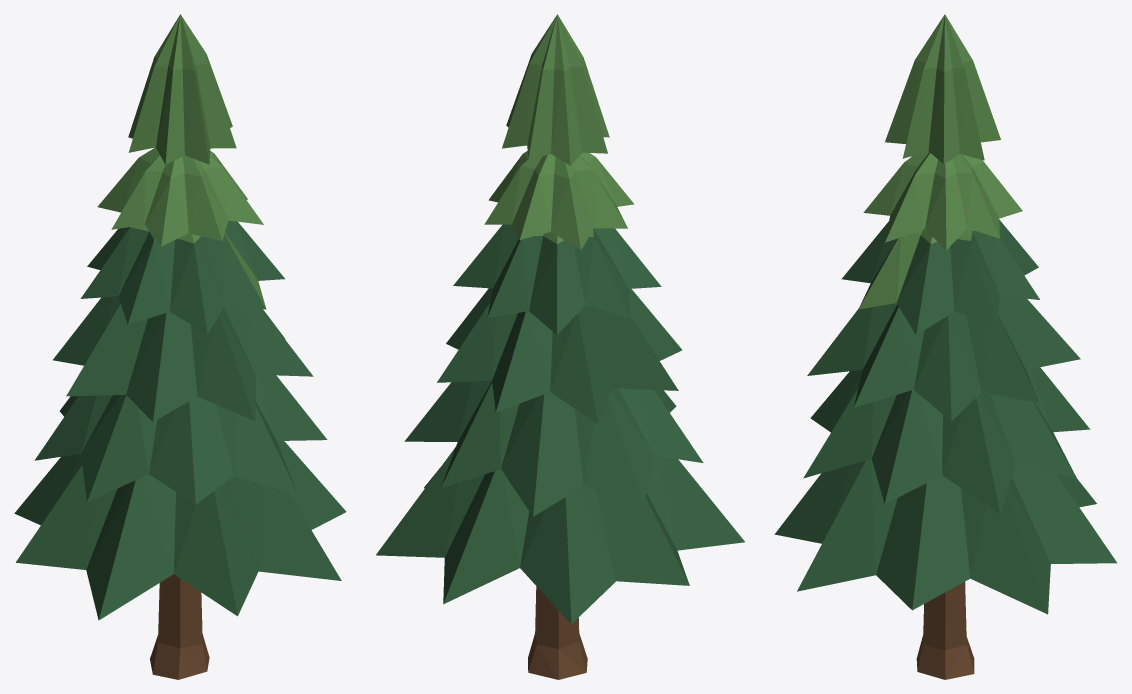
The model's file is SM_Tree_Pine_A.fbx.
3 views of the same model, side by side, from view 1: azimuth 30°, elevation 25°; view 2: azimuth 150°, elevation 25°; view 3: azimuth 270°, elevation 25° (orthographic).
Parts seen in each view (by area): view 1: SM_Tree_Pine_A; view 2: SM_Tree_Pine_A; view 3: SM_Tree_Pine_A.
Boxes of the visible parts, x1,y1,x2,y2 form: SM_Tree_Pine_A: (14,14,346,679); SM_Tree_Pine_A: (376,14,744,679); SM_Tree_Pine_A: (774,14,1117,679).
Size of the model in its own units: 3.83 by 8.01 by 3.81.
